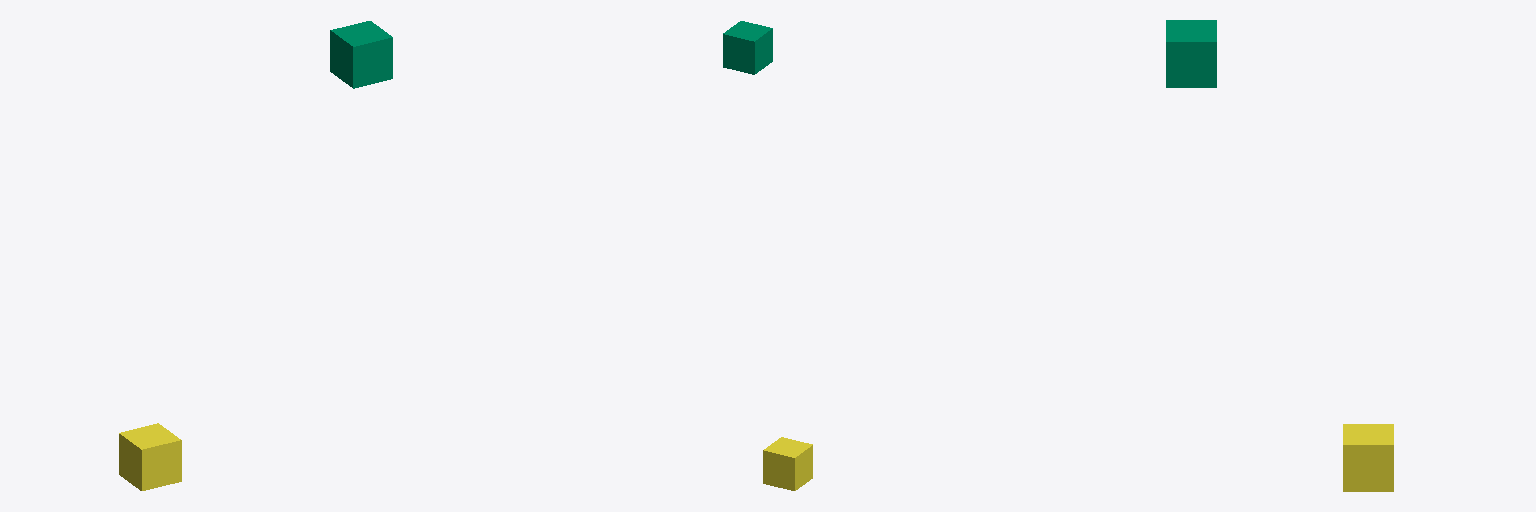
The robot description file, URDF, robot "multisense_sl":
<robot name="multisense_sl">

  <!-- Head Link Simple Collision Meshes -->
  <link name="head">
    <inertial>
      <origin xyz="-0.075493 3.3383E-05 0.02774" rpy="0 0 0" />
      <mass value="1.41984" />
      <!--<inertia iyy="0.0041178" ixy="-1.5797E-06" iyz="-6.8415E-07" ixx="0.0039688" ixz="-0.00089293" izz="0.0035243" />-->
      <inertia iyy="0.002080106" ixy="-1.5797E-06" iyz="-6.8415E-07" ixx="0.0036053766" ixz="-0.00089293" izz="0.001782985" />
    </inertial>
    <visual>
      <origin xyz="0 0 0" rpy="0 0 0" />
      <geometry>
        <mesh filename="package://multisense_sl_description/meshes/head.dae" />
      </geometry>
      <material name="">
        <color rgba="0.9098 0.44314 0.031373 1" />
      </material>
    </visual>
  <collision>
    <origin xyz="-0.0503 0 -0.00195" rpy="0 0 0" />
    <geometry>
      <box size="0.1311 0.12 0.0591"/>
    </geometry>
  </collision>
  <!--
  <collision group="other">
    <origin xyz="-0.093 0 0.0868" rpy="0 0 0" />
    <geometry>
      <box size="0.0468 0.12 0.1184"/>
    </geometry>
  </collision>
  -->
  </link>
  
  <link name="hokuyo_link">
    <inertial>
      <origin xyz="0.012428 0.0004084 -0.0041835" rpy="0 0 0" />
      <mass value="0.057654" />
      <!--<inertia iyy="4.2412E-05" ixy="4.9927E-08" iyz="-9.8165E-09" ixx="3.7174E-05" ixz="1.1015E-05" izz="4.167E-05" />-->
      <!-- distribute iyy and izz equally between head and hokuyo_link given it's constrainted anyways -->
      <!-- tweak ixx of hokuyo so it's larger, 1/10th of head ixx. -->
      <inertia iyy="0.002080106" ixy="4.9927E-08" iyz="-9.8165E-09" ixx="0.0004005974" ixz="1.1015E-05" izz="0.001782985" />
    </inertial>
    <visual>
      <!--origin xyz="0.065774 -0.001163 -0.08809" rpy="0 0 0" /-->
      <!--origin xyz="0.045 -0.001163 -0.08809" rpy="-0.314 0 0" /-->
      <origin xyz="0.045 -0.0261018277 -0.08342369" rpy="-0.314 0 0" />
      <geometry>
        <mesh filename="package://multisense_sl_description/meshes/head_camera.dae" />
      </geometry>
      <material name="">
        <color rgba="0.72941 0.35686 0.023529 1" />
      </material>
    </visual>
  <collision>
    <origin xyz="0.01885 0 -0.02119" rpy="0 0 0" />
    <geometry>
      <box size="0.08 0.06 0.04238"/>
    </geometry>
  </collision>
  <!--
  <collision group="other">
    <origin xyz="0.03 0 0.0235" rpy="0 0 0" />
    <geometry>
      <cylinder radius="0.024425" length="0.047"/>
    </geometry>
  </collision>
  -->
  </link>

  <!-- Head Link Complex Collision Meshes -->
  <!-- Comment simple meshes above and uncomment here for complex meshes
  <link name="head">
    <inertial>
      <origin xyz="-0.075493 3.3383E-05 0.02774" rpy="0 0 0" />
      <mass value="1.4199" />
      <inertia iyy="0.0041178" ixy="-1.5797E-06" iyz="-6.8415E-07" ixx="0.0039688" ixz="-0.00089293" izz="0.0035243" />
    </inertial>
    <visual>
      <origin xyz="-0.0446 0 0.0880" rpy="0 0 1.570795" />
      <geometry>
        <mesh filename="package://multisense_sl_description/meshes/base_link.STL" />
      </geometry>
      <material name="">
        <color rgba="0.9098 0.44314 0.031373 1" />
      </material>
    </visual>
    <collision>
      <origin xyz="-0.0446 0 0.0880" rpy="0 0 1.570795" />
      <geometry>
        <mesh filename="package://multisense_sl_description/meshes/base_link.STL" />
      </geometry>
    </collision>
  </link>
  
  <link name="hokuyo_link">
    <inertial>
      <origin xyz="0.012428 0.0004084 -0.0041835" rpy="0 0 0" />
      <mass value="0.057664" />
      <inertia iyy="4.2412E-05" ixy="4.9927E-08" iyz="-9.8165E-09" ixx="3.7174E-05" ixz="1.1015E-05" izz="4.167E-05" />
    </inertial>
    <visual>
      <origin xyz="0 0 0" rpy="1.5707963267949 0 1.5707963267949" />
      <geometry>
        <mesh filename="package://multisense_sl_description/meshes/hokuyo_link.STL" />
      </geometry>
      <material name="">
        <color rgba="0.72941 0.35686 0.023529 1" />
      </material>
    </visual>
    <collision>
      <origin xyz="0 0 0" rpy="1.5707963267949 0 1.5707963267949" />
      <geometry>
        <mesh filename="package://multisense_sl_description/meshes/hokuyo_link.STL" />
      </geometry>
    </collision>
  </link>
  -->

  <joint name="hokuyo_joint" type="continuous">
    <origin xyz="-0.0446 0 0.0880" rpy="0 0 0" />
    <parent link="head" />
    <child link="hokuyo_link" />
    <axis xyz="1 0 0" />
    <dynamics damping="0.01" friction="0"/>
  </joint>

  <!-- Hokuyo Laser -->
  <joint name="head_hokuyo_joint" type="fixed">
    <axis xyz="0 1 0" />
    <origin xyz="0.03 0 0.015" rpy="0 0 0"/>
    <parent link="hokuyo_link"/>
    <child link="head_hokuyo_frame"/>
  </joint>
  
  <link name="head_hokuyo_frame">
    <inertial>
      <mass value="1e-5" />
      <!-- collocate with parent link and remove mass from it -->
      <origin xyz="0.042428 0.0004084 0.0108165" rpy="0 0 0"/>
      <inertia ixx="1e-6" ixy="0" ixz="0" iyy="1e-6" iyz="0" izz="1e-6" />
    </inertial>
    <visual>
      <origin xyz="0 0 0" rpy="0 0 0 " />
      <geometry>
        <box size="0.01 0.01 0.01"/>
      </geometry>
    </visual>
  </link>
  
  <gazebo reference="head_hokuyo_frame">
    <sensor type="ray" name="head_hokuyo_sensor">
      <pose>0 0 0 0 0 0</pose>
      <visualize>false</visualize>
      <update_rate>40</update_rate>
      <ray>
        <scan>
          <horizontal>
            <samples>720</samples>
            <resolution>1</resolution>
            <min_angle>-1.570796</min_angle>
            <max_angle>1.570796</max_angle>
          </horizontal>
        </scan>
        <range>
          <min>0.10</min>
          <max>30.0</max>
          <resolution>0.01</resolution>
        </range>
        <noise>
          <type>gaussian</type>
          <!-- Noise parameters based on published spec for Hokuyo laser
               achieving "+-30mm" accuracy at range < 10m.  A mean of 0.0m and
               stddev of 0.01m will put 99.7% of samples within 0.03m of the true
               reading. -->
          <mean>0.0</mean>
          <stddev>0.01</stddev>
        </noise>
      </ray>
      <plugin name="gazebo_ros_head_hokuyo_controller" filename="libgazebo_ros_laser.so">
        <topicName>/multisense_sl/laser/scan</topicName>
        <frameName>/segway/head_hokuyo_frame</frameName>
      </plugin>
    </sensor>
  </gazebo>
  
  <!-- Stereo Camera -->
  <joint name="left_camera_frame_joint" type="fixed">
    <!-- optical frame collocated with tilting DOF -->
    <origin xyz="0.0 0.035 -0.002"/>
    <parent link="head"/>
    <child link="left_camera_frame"/>
  </joint>
  
  <link name="left_camera_frame">
    <inertial>
      <mass value="1e-5" />
      <!-- collocate with parent link and remove mass from it -->
      <origin xyz="-0.075493 0.035033383 0.02574"/>
      <inertia ixx="1e-6" ixy="0" ixz="0" iyy="1e-6" iyz="0" izz="1e-6" />
    </inertial>
  </link>
  
  <joint name="left_camera_optical_frame_joint" type="fixed">
    <origin xyz="0 0 0" rpy="-1.5708 0.0 -1.5708" />
    <parent link="left_camera_frame" />
    <child link="left_camera_optical_frame"/>
  </joint>
  
  <link name="left_camera_optical_frame"/>
  <gazebo reference="left_camera_frame">
    <sensor type="multicamera" name="stereo_camera">
      <!-- see MultiSenseSLPlugin.h for available modes -->
      <update_rate>30.0</update_rate>
      <camera name="left">
        <!-- Spec sheet says 80deg X 45deg @ 1024x544pix.  Based on feedback
             from teams, we're instead doing 80deg X 80deg @ 800x800pix. -->
        <horizontal_fov>1.3962634</horizontal_fov>
        <image>
          <width>800</width>
          <height>800</height>
          <format>R8G8B8</format>
        </image>
        <clip>
          <near>0.02</near>
          <far>300</far>
        </clip>
        <noise>
          <type>gaussian</type>
          <!-- Noise is sampled independently per pixel on each frame.  
               That pixel's noise value is added to each of its color
               channels, which at that point lie in the range [0,1].
               The stddev value of 0.007 is based on experimental data 
               from a camera in a Sandia hand pointed at a static scene
               in a couple of different lighting conditions.  -->
          <mean>0.0</mean>
          <stddev>0.007</stddev>
        </noise>
      </camera>
      <camera name="right">
        <pose>0 -0.07 0 0 0 0</pose>
        <!-- Spec sheet says 80deg X 45deg @ 1024x544pix.  Based on feedback
             from teams, we're instead doing 80deg X 80deg @ 800x800pix. -->
        <horizontal_fov>1.3962634</horizontal_fov>
        <image>
          <width>800</width>
          <height>800</height>
          <format>R8G8B8</format>
        </image>
        <clip>
          <near>0.02</near>
          <far>300</far>
        </clip>
        <noise>
          <type>gaussian</type>
          <!-- Noise is sampled independently per pixel on each frame.  
               That pixel's noise value is added to each of its color
               channels, which at that point lie in the range [0,1].
               The stddev value of 0.007 is based on experimental data 
               from a camera in a Sandia hand pointed at a static scene
               in a couple of different lighting conditions.  -->
          <mean>0.0</mean>
          <stddev>0.007</stddev>
        </noise>
      </camera>
      <plugin name="stereo_camera_controller" filename="libgazebo_ros_multicamera.so">
        <alwaysOn>true</alwaysOn>
        <updateRate>0.0</updateRate>
        <cameraName>multisense_sl/camera</cameraName>
        <imageTopicName>image_raw</imageTopicName>
        <cameraInfoTopicName>camera_info</cameraInfoTopicName>
        <frameName>left_camera_optical_frame</frameName>
        <!--<rightFrameName>right_camera_optical_frame</rightFrameName>-->
        <hackBaseline>0.07</hackBaseline>
        <distortionK1>0.0</distortionK1>
        <distortionK2>0.0</distortionK2>
        <distortionK3>0.0</distortionK3>
        <distortionT1>0.0</distortionT1>
        <distortionT2>0.0</distortionT2>
      </plugin>
    </sensor>
  </gazebo>

  <joint name="right_camera_frame_joint" type="fixed">
    <origin xyz="0.0 -0.035 -0.002"/>
    <parent link="head"/>
    <child link="right_camera_frame"/>
  </joint>
  <link name="right_camera_frame">
    <inertial>
      <mass value="1e-5" />
      <!-- collocate with parent link and remove mass from it -->
      <origin xyz="-0.075493 -0.034966617 0.02574"/>
      <inertia ixx="1e-6" ixy="0" ixz="0" iyy="1e-6" iyz="0" izz="1e-6" />
    </inertial>
  </link>
  <joint name="right_camera_optical_frame_joint" type="fixed">
    <origin xyz="0 0 0" rpy="-1.5708 0.0 -1.5708" />
    <parent link="right_camera_frame" />
    <child link="right_camera_optical_frame"/>
  </joint>
  <link name="right_camera_optical_frame"/>

  <joint name="center_top_led_frame_joint" type="fixed">
    <origin xyz="0.01125 0.0 0.0105"/>
    <parent link="head"/>
    <child link="center_top_led_frame"/>
  </joint>
  <link name="center_top_led_frame">
    <inertial>
      <mass value="1e-5" />
      <!-- collocate with parent link and remove mass from it -->
      <origin xyz="-0.064243 0.000033383 0.03824" rpy="0 0 0" />
      <inertia ixx="1e-6" ixy="0" ixz="0" iyy="1e-6" iyz="0" izz="1e-6" />
    </inertial>
  </link>
  <joint name="center_bottom_led_frame_joint" type="fixed">
    <origin xyz="0.01125 0.0 -0.0155"/>
    <parent link="head"/>
    <child link="center_bottom_led_frame"/>
  </joint>
  <link name="center_bottom_led_frame">
    <inertial>
      <mass value="1e-5" />
      <!-- collocate with parent link and remove mass from it -->
      <origin xyz="-0.064243 0.000033383 0.01224" rpy="0 0 0" />
      <inertia ixx="1e-6" ixy="0" ixz="0" iyy="1e-6" iyz="0" izz="1e-6" />
    </inertial>
  </link>
  <joint name="left_led_frame_joint" type="fixed">
    <origin xyz="-0.01443 0.07452 0.050346" rpy="0 -0.15 0.53"/>
    <parent link="head"/>
    <child link="left_led_frame"/>
  </joint>
  <link name="left_led_frame">
    <inertial>
      <mass value="1e-5" />
      <!-- collocate with parent link and remove mass from it -->
      <origin xyz="-0.089923 0.074553383 0.078086" rpy="0 -0.15 0.53" />
      <inertia ixx="1e-6" ixy="0" ixz="0" iyy="1e-6" iyz="0" izz="1e-6" />
    </inertial>
  </link>
  <joint name="right_led_frame_joint" type="fixed">
    <origin xyz="-0.01443 -0.07452 0.050346" rpy="0 -0.15 -0.53"/>
    <parent link="head"/>
    <child link="right_led_frame"/>
  </joint>
  <link name="right_led_frame">
    <inertial>
      <mass value="1e-5" />
      <!-- collocate with parent link and remove mass from it -->
      <origin xyz="-0.089923 -0.074486617 0.07908" rpy="0 -0.15 -0.53" />
      <inertia ixx="1e-6" ixy="0" ixz="0" iyy="1e-6" iyz="0" izz="1e-6" />
    </inertial>
  </link>

  <!-- imu link -->
  <link name="head_imu_link">
    <inertial>
      <mass value="1e-5" />
      <!-- collocate with parent link and remove mass from it -->
      <origin xyz="-0.122993 0.035033383 0.02774" rpy="0 0 0" />
      <inertia ixx="1e-6" ixy="0" ixz="0" iyy="1e-6" iyz="0" izz="1e-6" />
    </inertial>
    <visual>
      <origin rpy="0 0 0" xyz="0 0 0"/>
      <geometry>
        <box size="0.01 0.01 0.01"/>
      </geometry>
    </visual>
  </link>
  <joint name="head_imu_joint" type="fixed">
    <parent link="head"/>
    <child link="head_imu_link"/>
    <!-- putting it at the same z-level as the stereo -->
    <origin xyz="-0.0475 0.035 0.0" rpy="0 0 0"/>
  </joint>
  <gazebo reference="head_imu_link">
    <!-- this is expected to be reparented to head with appropriate offset
         when head_imu_link is reduced by fixed joint reduction -->
    <!-- todo: this is working with gazebo 1.4, need to write a unit test -->
    <sensor name="head_imu_sensor" type="imu">
      <always_on>1</always_on>
      <update_rate>1000.0</update_rate>
      <imu>
        <noise>
          <type>gaussian</type>
          <!-- Noise parameters from Boston Dynamics
               (http://gazebosim.org/wiki/Sensor_noise):
                 rates (rad/s): mean=0, stddev=2e-4
                 accels (m/s/s): mean=0, stddev=1.7e-2
                 rate bias (rad/s): 5e-6 - 1e-5
                 accel bias (m/s/s): 1e-1
               Experimentally, simulation provide rates with noise of
               about 1e-3 rad/s and accels with noise of about 1e-1 m/s/s.
               So we don't expect to see the noise unless number of inner iterations
               are increased.

               We will add bias.  In this model, bias is sampled once for rates
               and once for accels at startup; the sign (negative or positive)
               of each bias is then switched with equal probability.  Thereafter,
               the biases are fixed additive offsets.  We choose
               bias means and stddevs to produce biases close to the provided
               data. -->
          <rate>
            <mean>0.0</mean>
            <stddev>2e-4</stddev>
            <bias_mean>0.0000075</bias_mean>
            <bias_stddev>0.0000008</bias_stddev>
          </rate>
          <accel>
            <mean>0.0</mean>
            <stddev>1.7e-2</stddev>
            <bias_mean>0.1</bias_mean>
            <bias_stddev>0.001</bias_stddev>
          </accel>
        </noise>
      </imu>
    </sensor>
  </gazebo>
  
  <gazebo>
    <plugin filename="libMultiSenseSLPlugin.so" name="multisense_plugin"/>
  </gazebo>
  
</robot>

--- What the picture shows (computed from the rendered views, not written in the file) ---
3 views of the same robot in one strip: view 1: azimuth 30°, elevation 25°; view 2: azimuth 150°, elevation 25°; view 3: azimuth 270°, elevation 25° (orthographic).
Robot: multisense_sl — 12 links, 11 joints (1 continuous, 10 fixed); root link head; default pose: all joints at 0.
Visible links, largest first — view 1: head_hokuyo_frame, head_imu_link; view 2: head_hokuyo_frame, head_imu_link; view 3: head_hokuyo_frame, head_imu_link.
Link boxes in pixels (x1=…): head_hokuyo_frame: x1=330, y1=21, x2=392, y2=88; head_imu_link: x1=119, y1=423, x2=181, y2=490; head_hokuyo_frame: x1=723, y1=21, x2=772, y2=74; head_imu_link: x1=763, y1=437, x2=812, y2=490; head_hokuyo_frame: x1=1166, y1=20, x2=1216, y2=87; head_imu_link: x1=1343, y1=424, x2=1393, y2=491.
Bounding box of the posed robot: 0.0429 × 0.045 × 0.113 m (x, y, z).
0 mesh visuals loaded from 2 distinct referenced files (none loaded); not drawn: 2 (reference not matched to a file when rendering).
